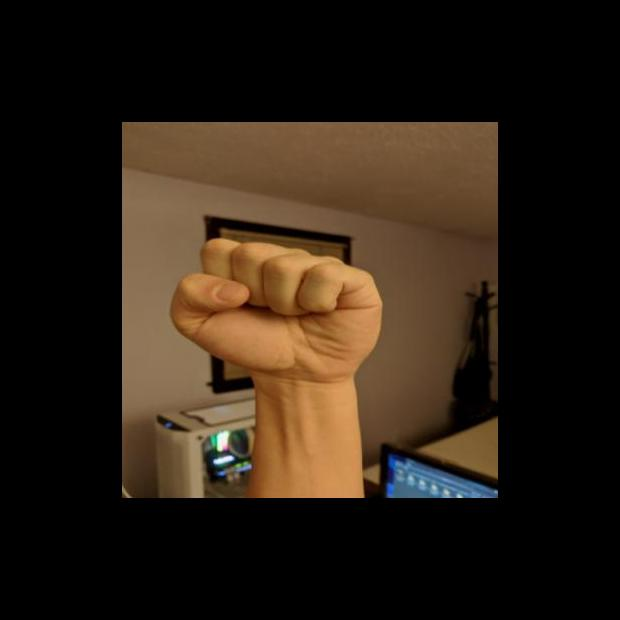R: (163, 228, 389, 388)
